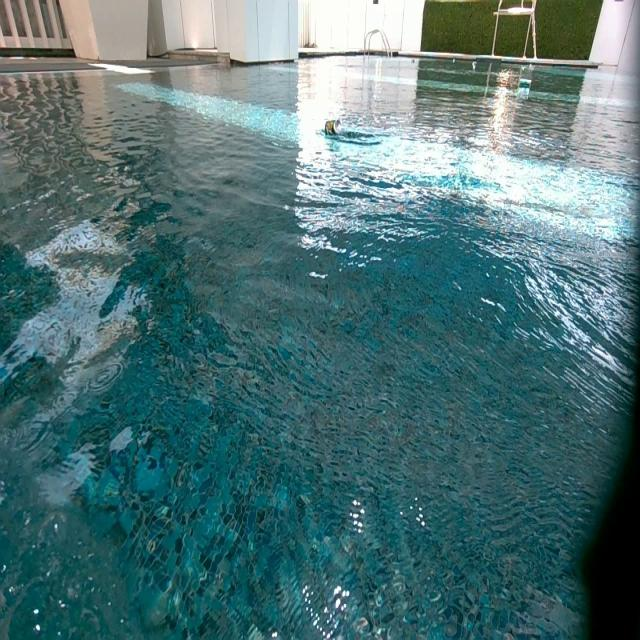Cans: (324, 117, 341, 134), (470, 61, 476, 70), (450, 59, 457, 66)
